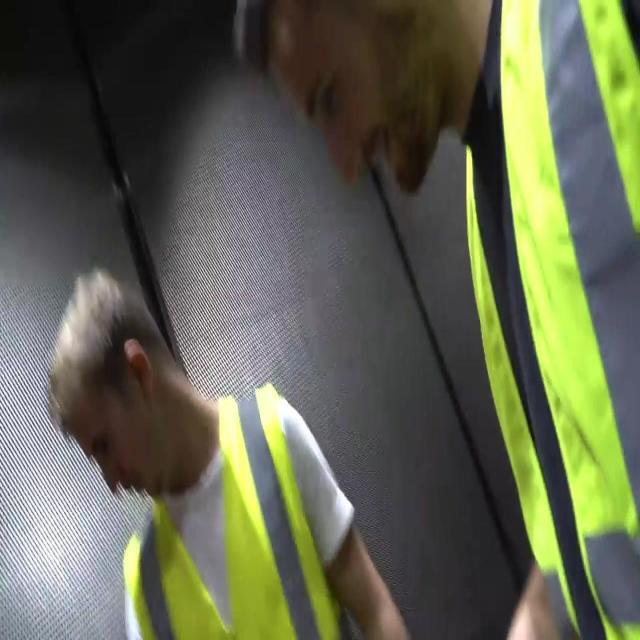Vest: (462, 0, 640, 639), (123, 382, 344, 638)
